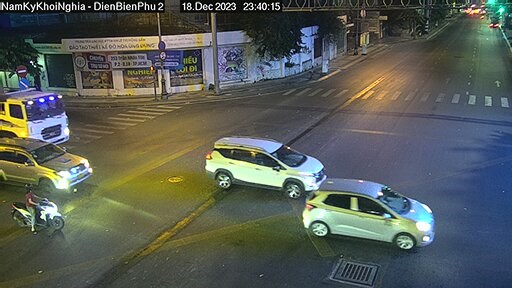car: (260, 147, 436, 249), (183, 121, 331, 197), (1, 125, 97, 190)
motorbike: (13, 188, 62, 237)
truck: (8, 75, 84, 143)
